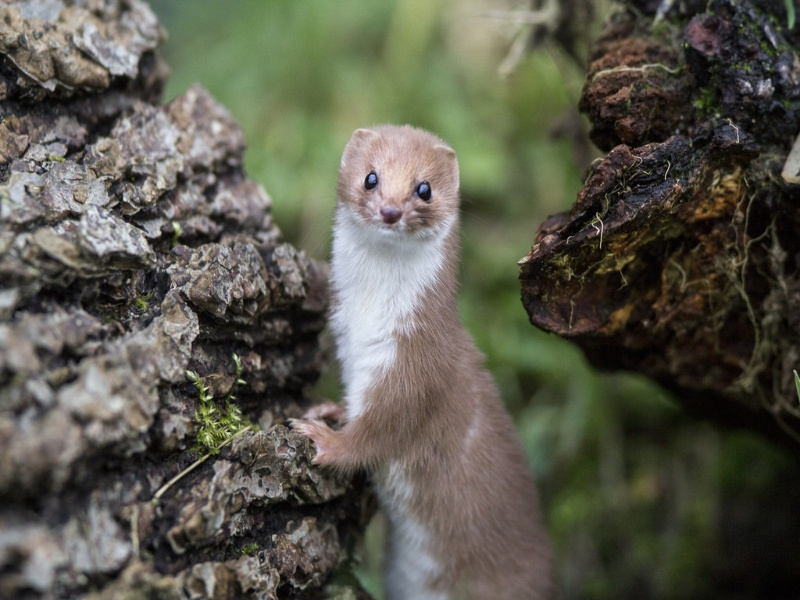minkish: (279, 122, 570, 598)
